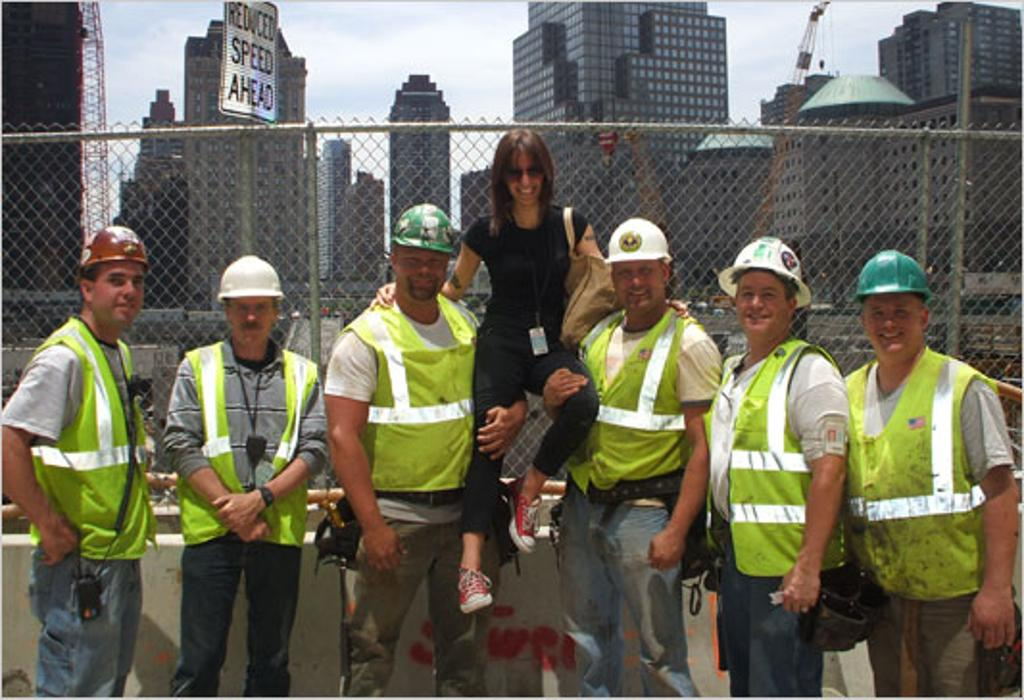face: (864, 292, 920, 353), (92, 260, 143, 322), (737, 273, 785, 334), (398, 244, 446, 302), (613, 259, 661, 313), (228, 296, 272, 345), (504, 151, 543, 205)
